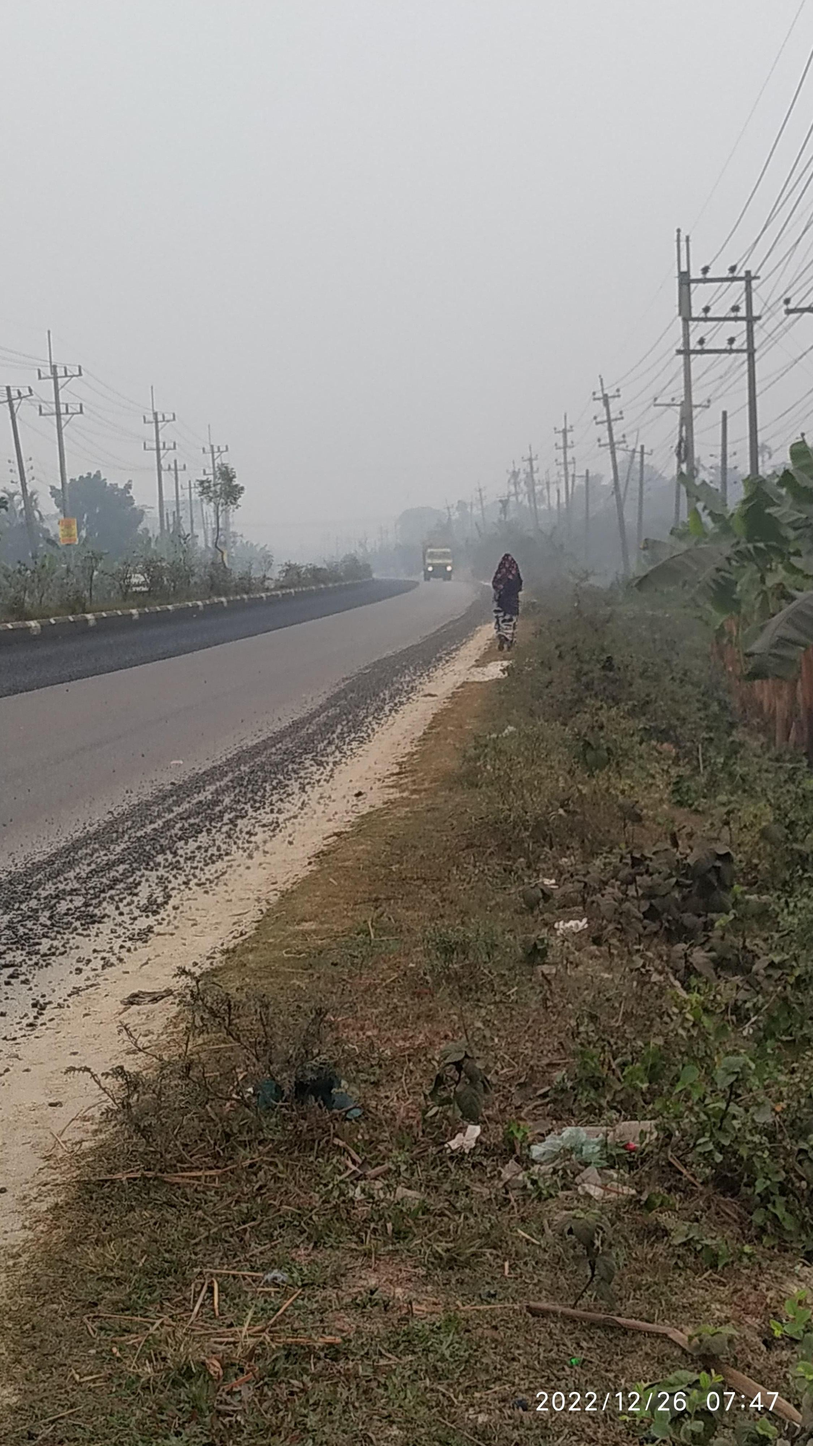Truck: (408, 531, 474, 596)
